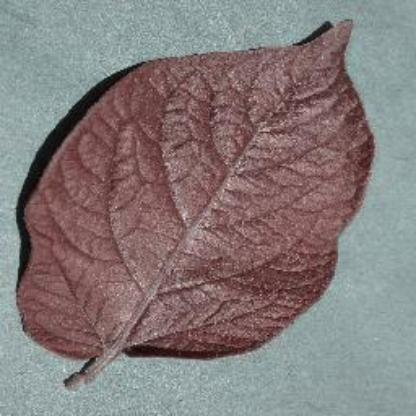Healthy-plant: (15, 18, 378, 388)
